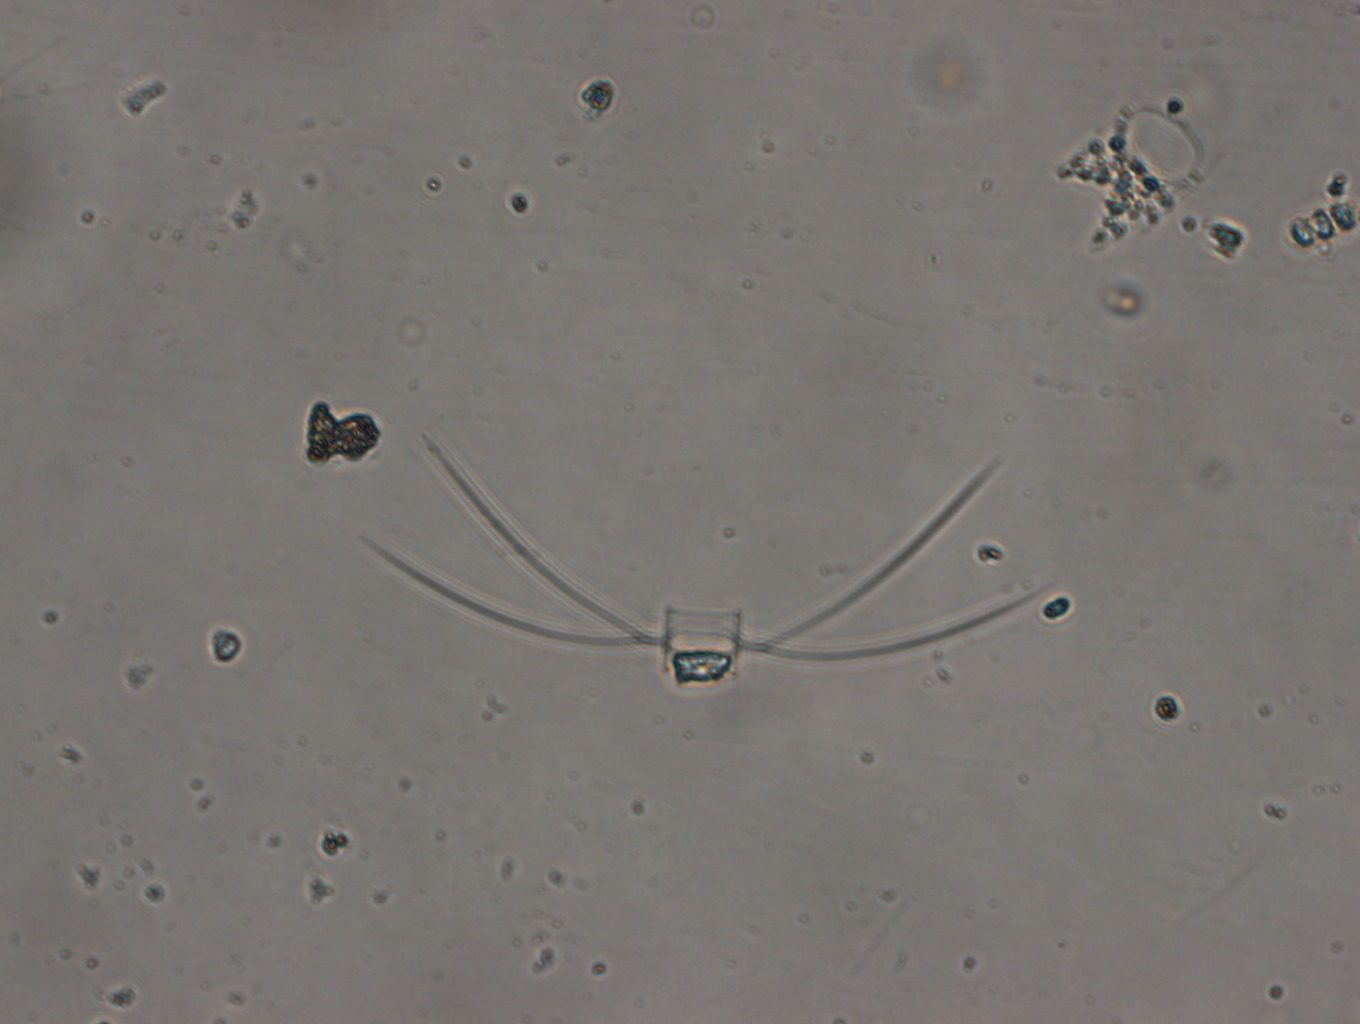chaetoceros: (352, 433, 1049, 697)
